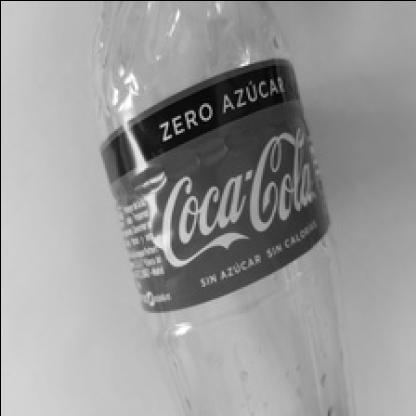plastic_bottles: (81, 0, 357, 416)
